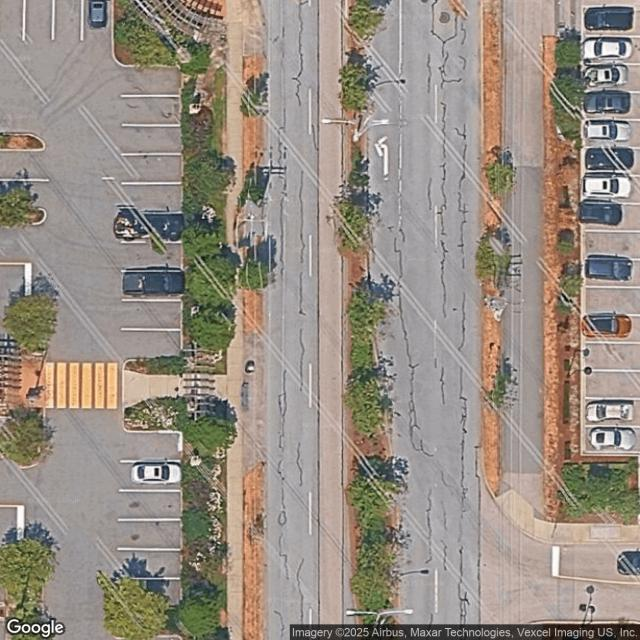car: (121, 266, 185, 297), (584, 254, 634, 282), (583, 6, 635, 31), (581, 37, 633, 61), (588, 426, 637, 451), (582, 174, 632, 198), (134, 462, 182, 486), (578, 201, 623, 226), (584, 90, 632, 113), (585, 148, 635, 170), (586, 400, 635, 422), (585, 315, 632, 337), (585, 120, 633, 141), (584, 65, 628, 87), (88, 0, 109, 29)
lot_boundary: (0, 0, 185, 639), (569, 1, 640, 640)
objects: (112, 208, 181, 244), (616, 551, 640, 576)
